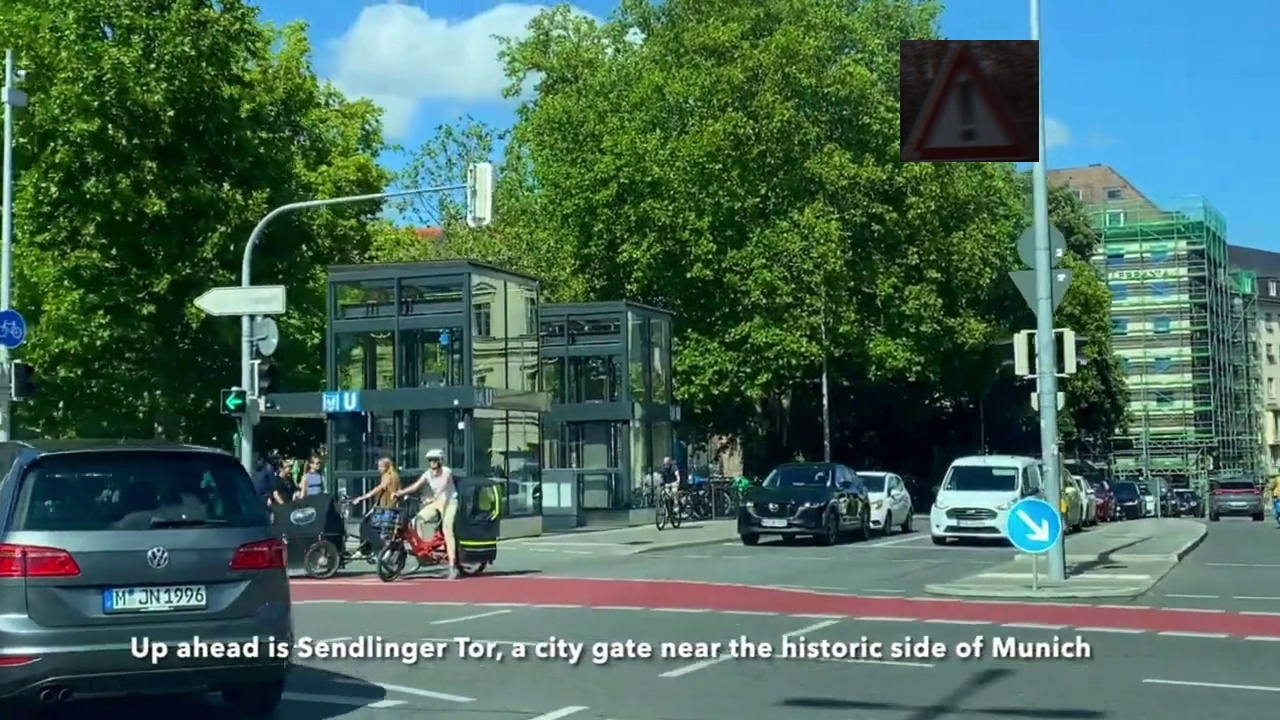Caution: (900, 40, 1039, 162)
